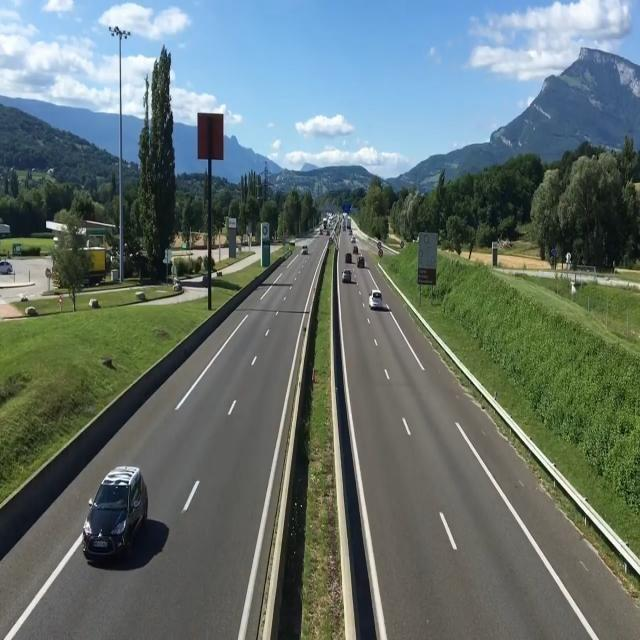Car: (80, 465, 148, 563), (367, 289, 384, 310), (340, 269, 353, 283), (299, 242, 309, 258)
